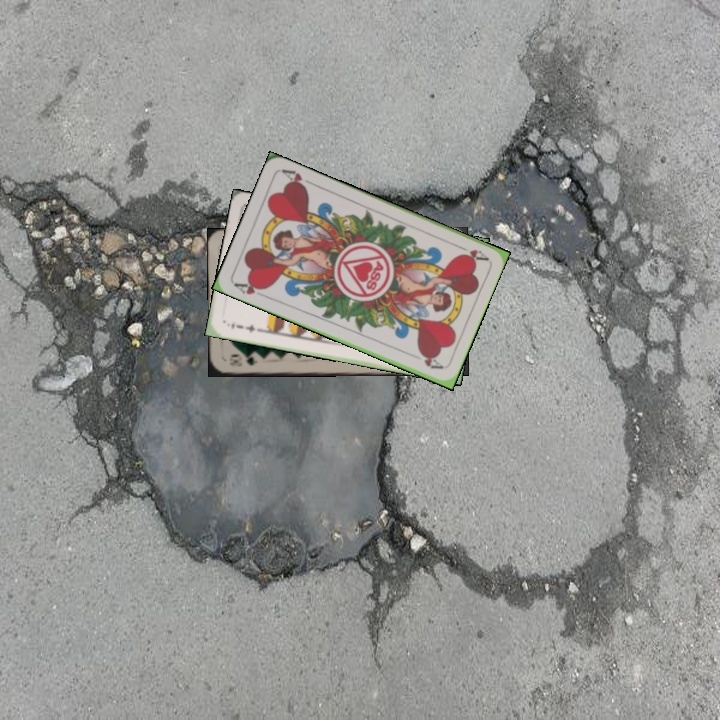E7: (227, 318, 263, 335)
G10: (226, 352, 260, 369)
HA: (230, 277, 269, 300), (451, 240, 490, 263)
